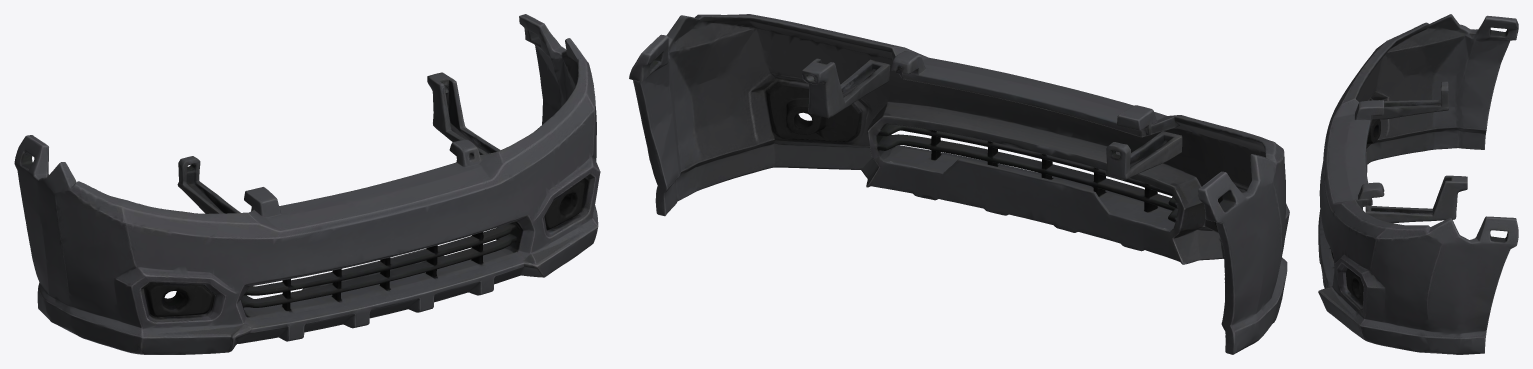
Rendered from car_bumper_1k_real.glb.
The picture shows the model from 3 angles, left to right: view 1: azimuth 30°, elevation 25°; view 2: azimuth 150°, elevation 25°; view 3: azimuth 270°, elevation 25°; orthographic projection. The views are drawn at different scales.
Visible parts, largest first — view 1: tripo_node_7de02256-a79f-40fb-abf2-fd419d5947ac; view 2: tripo_node_7de02256-a79f-40fb-abf2-fd419d5947ac; view 3: tripo_node_7de02256-a79f-40fb-abf2-fd419d5947ac.
Part boxes in pixels (<box>): tripo_node_7de02256-a79f-40fb-abf2-fd419d5947ac: <box>14,14,600,354</box>; tripo_node_7de02256-a79f-40fb-abf2-fd419d5947ac: <box>629,14,1289,354</box>; tripo_node_7de02256-a79f-40fb-abf2-fd419d5947ac: <box>1318,14,1518,354</box>.
Bounding box in the file's own units: 1 × 0.2919 × 0.3949.
1 material, 1 textured.
